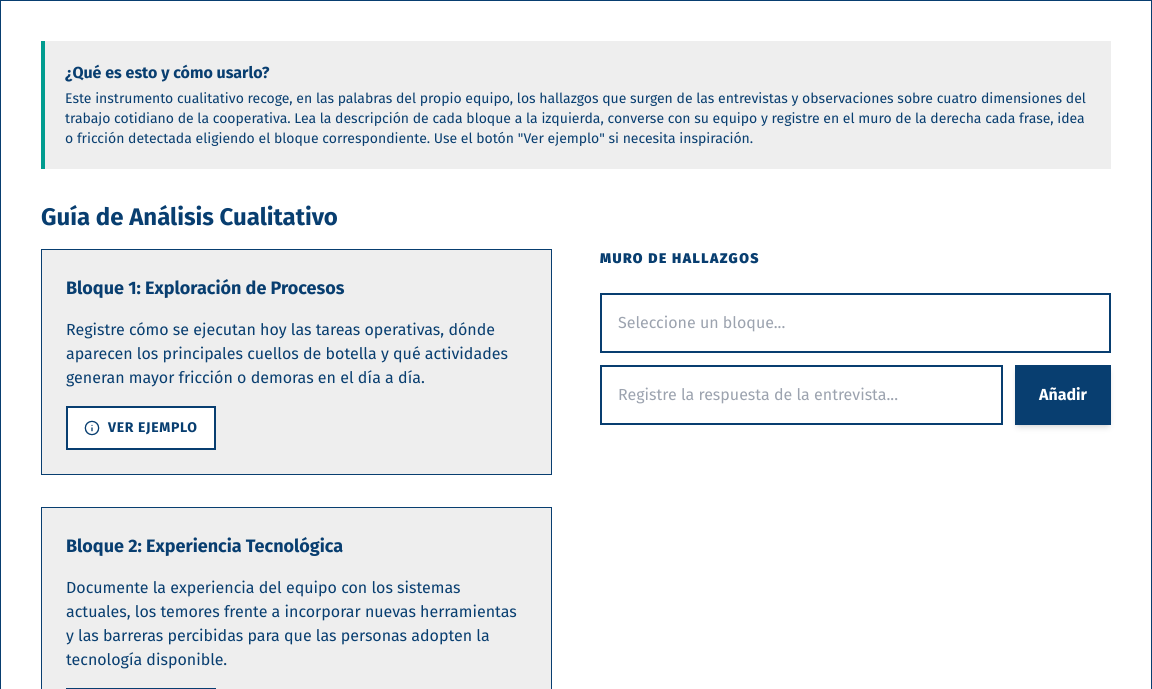
Test case: TabAnalisis - muro de hallazgos con bloque › el combobox filtra opciones al tipear
The width and height of the screenshot is (1152, 689).
Click the dropdown labelled "Seleccione un bloque..." at (856, 323), box [600,293,1111,353]
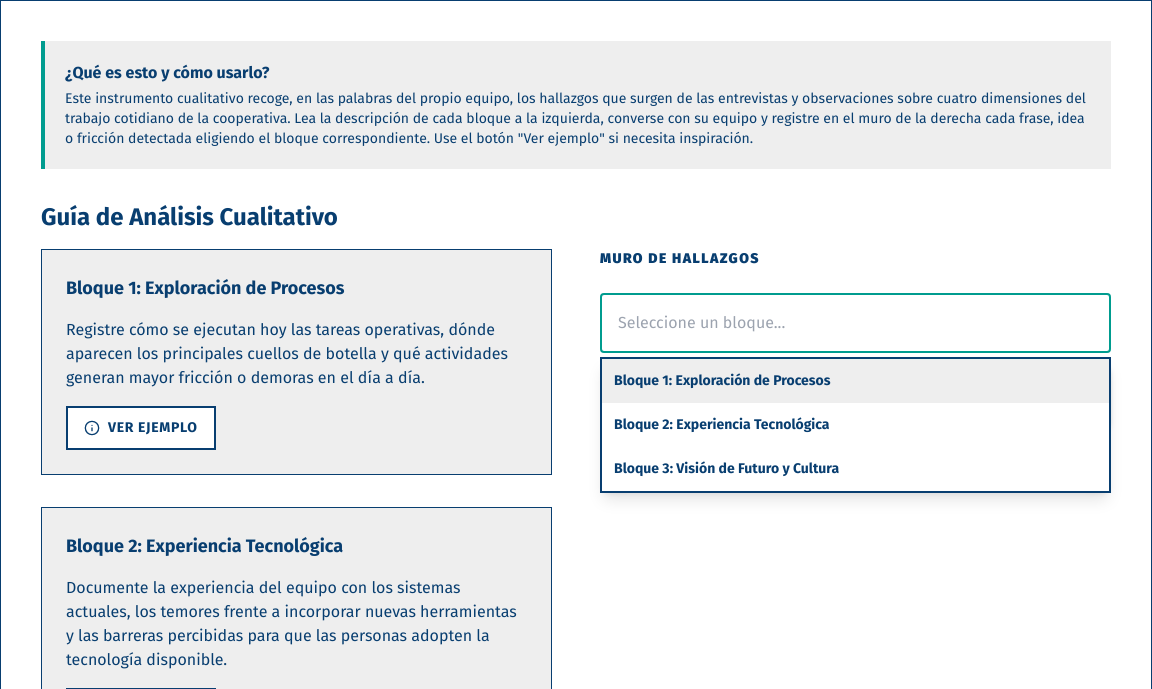
Check: the number of options is 3, box [602,359,1109,403]; [614,416,830,433]; [614,460,839,477]
Type "tecno" into the dropdown labelled "Seleccione un bloque..." at (856, 323), box [600,293,1111,353]
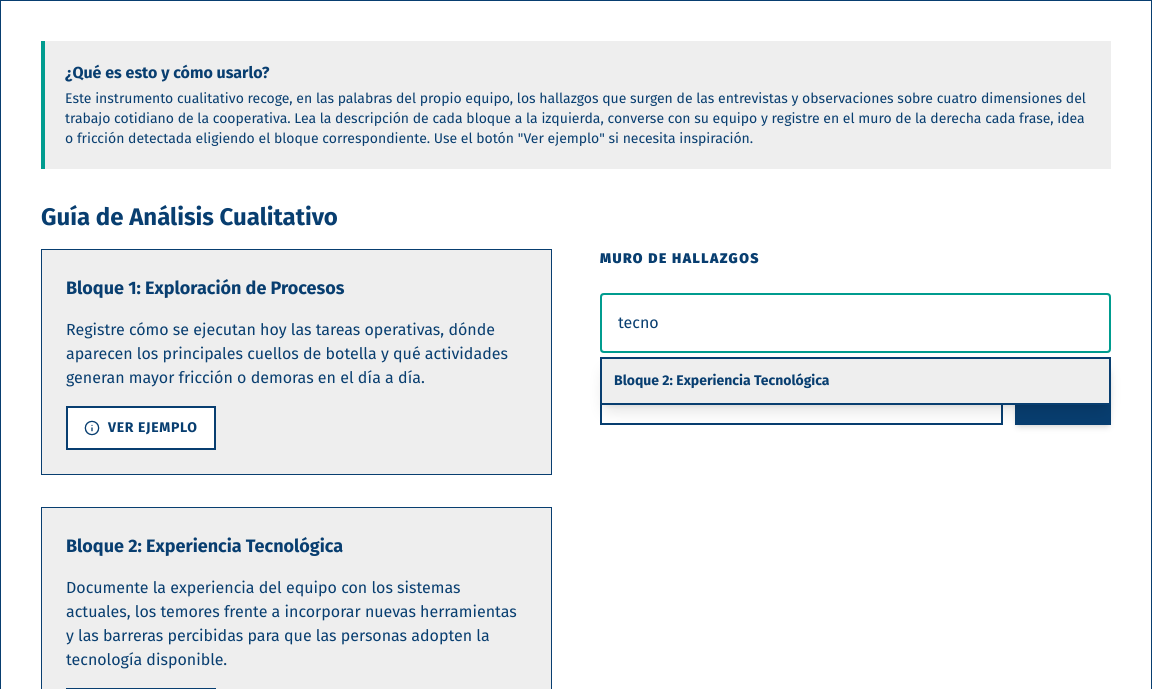
Check: the option shows "Bloque 2", box [602,359,1109,403]
Check: the number of options is 1, box [602,359,1109,403]
